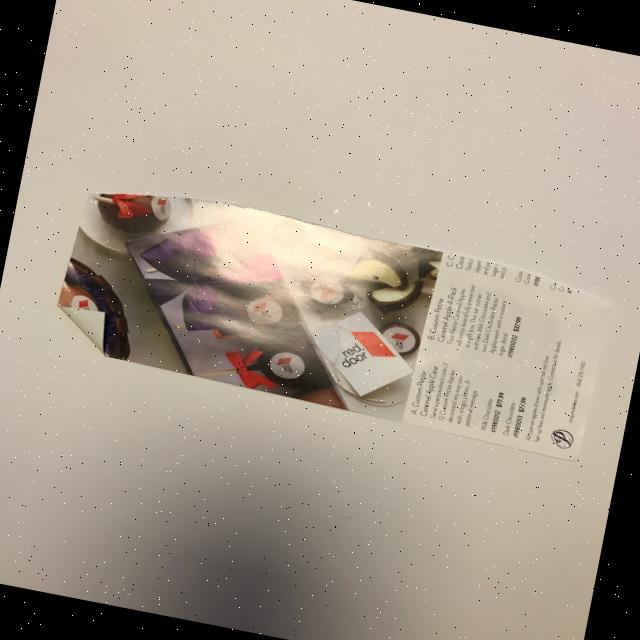paper: (47, 175, 618, 462)
